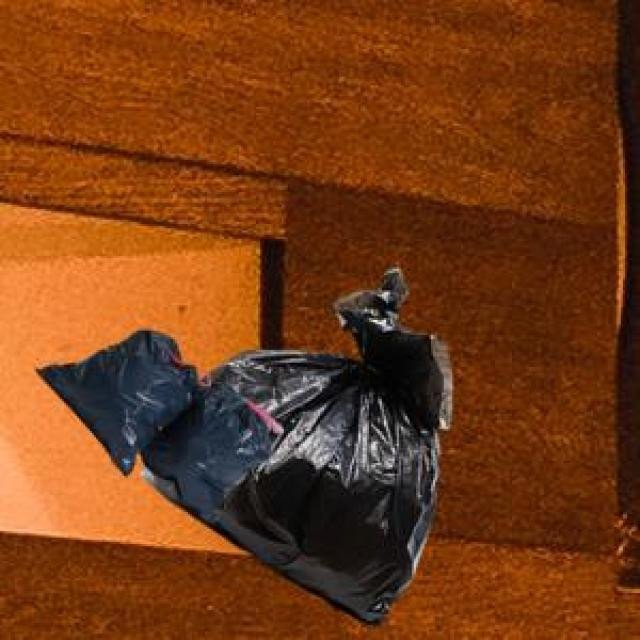Vinyl: (38, 270, 445, 619)
